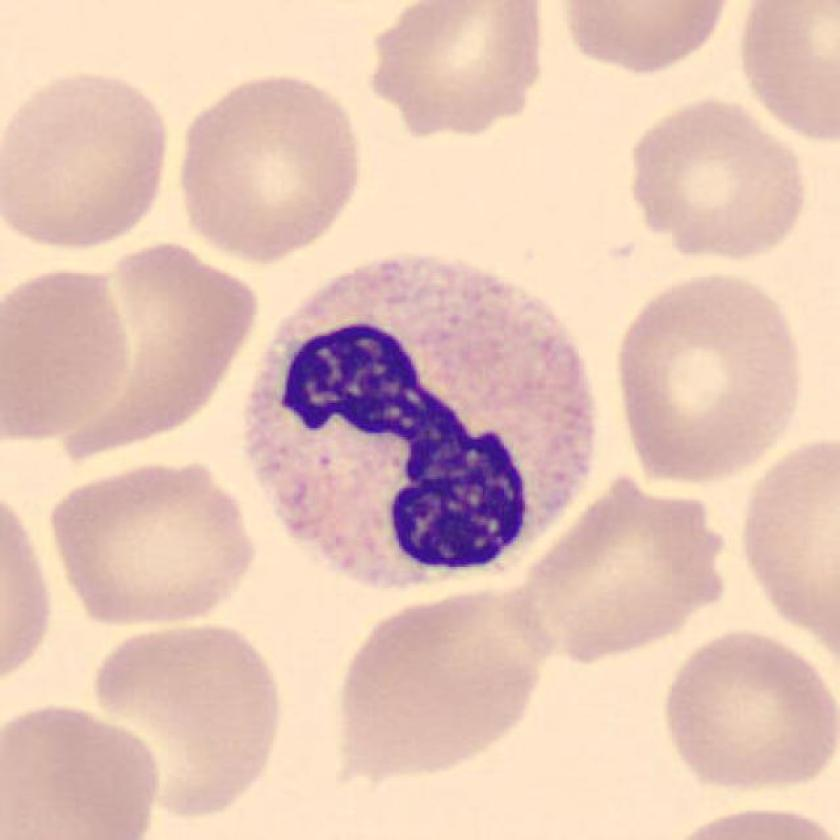neutrophil: (248, 256, 596, 585)
